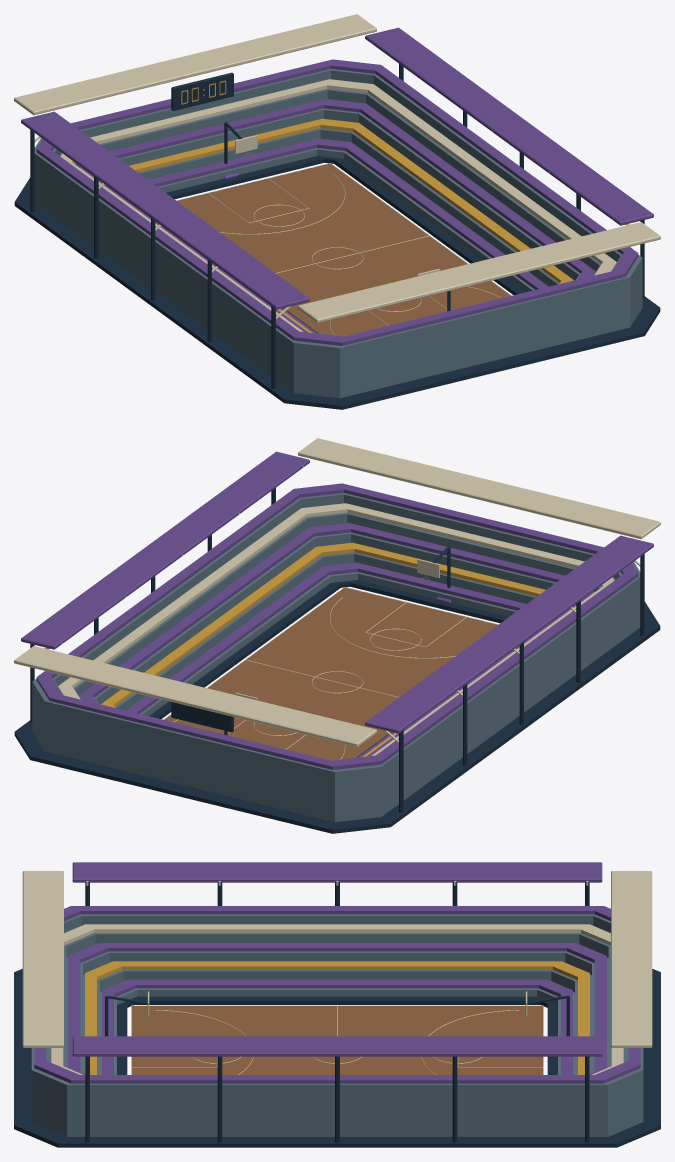
Rendered from basketball-arena.glb.
3 views of the same model, one above another, from view 1: azimuth 30°, elevation 25°; view 2: azimuth 150°, elevation 25°; view 3: azimuth 270°, elevation 25° (orthographic). The views are drawn at different scales.
Parts seen in each view (by area): view 1: arena_shell, roof, seating, court_surface, beams, scoreboard, court_markings; view 2: arena_shell, roof, seating, court_surface, beams, court_markings, scoreboard; view 3: arena_shell, roof, seating, court_surface, beams, court_markings, basket_frame.
Boxes of the visible parts, bbox=[...] form: arena_shell: bbox=[14, 69, 660, 409]; roof: bbox=[14, 14, 660, 322]; seating: bbox=[36, 59, 638, 345]; court_surface: bbox=[177, 163, 510, 336]; beams: bbox=[30, 42, 644, 388]; scoreboard: bbox=[171, 72, 233, 110]; court_markings: bbox=[176, 163, 511, 335]; arena_shell: bbox=[14, 493, 660, 833]; roof: bbox=[14, 438, 660, 746]; seating: bbox=[36, 483, 638, 769]; court_surface: bbox=[164, 587, 497, 760]; beams: bbox=[30, 466, 644, 812]; court_markings: bbox=[163, 587, 498, 759]; scoreboard: bbox=[171, 702, 233, 732]; arena_shell: bbox=[14, 914, 660, 1147]; roof: bbox=[22, 862, 652, 1056]; seating: bbox=[34, 906, 640, 1083]; court_surface: bbox=[132, 1006, 542, 1074]; beams: bbox=[85, 881, 589, 1142]; court_markings: bbox=[131, 1005, 543, 1074]; basket_frame: bbox=[105, 995, 569, 1036].
Bounding box in the file's own units: 30.8 × 7.15 × 44.
